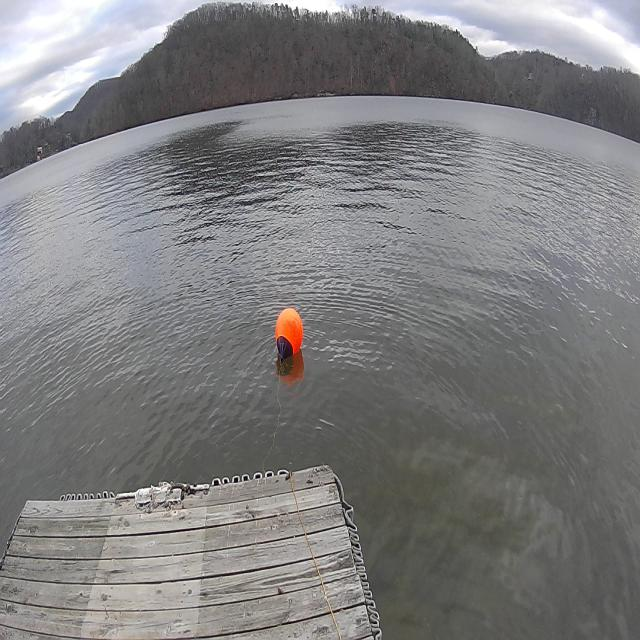Buoy: (272, 300, 306, 370)
